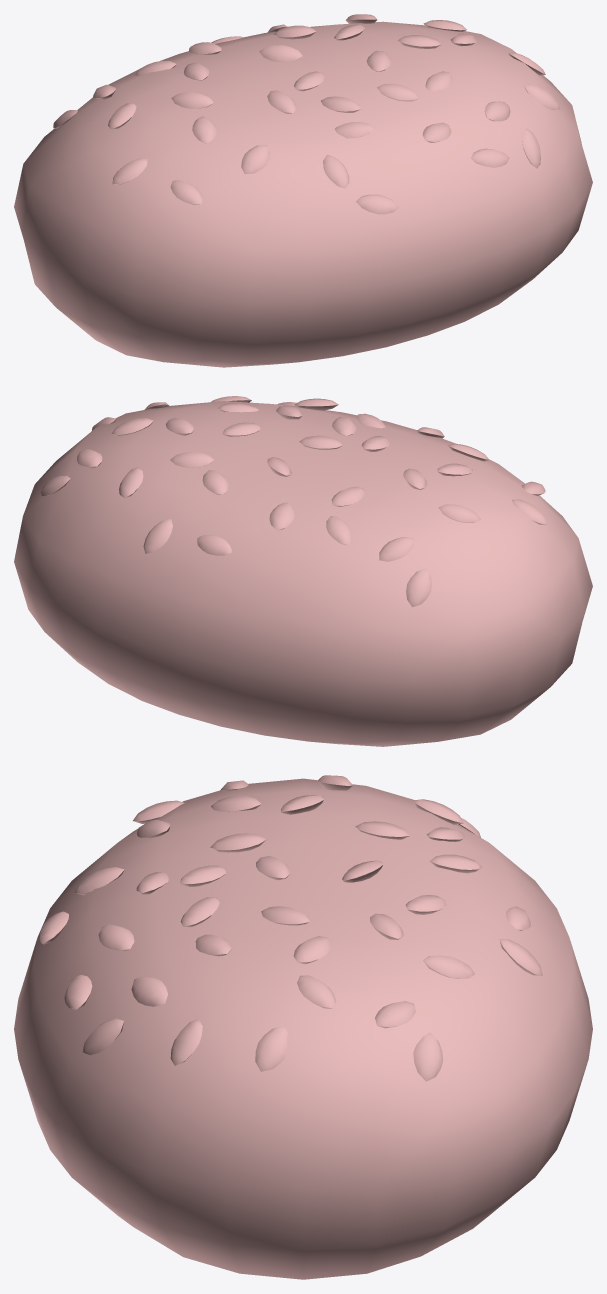
File: PROPS_GOODS_CEREALBREAD_MODEL.fbx
3 renders of one model, top to bottom at view 1: azimuth 30°, elevation 25°; view 2: azimuth 150°, elevation 25°; view 3: azimuth 270°, elevation 25°, orthographic. The views are drawn at different scales.
Parts seen in each view (by area): view 1: PROPS_GOODS_CEREALBREAD_MODEL; view 2: PROPS_GOODS_CEREALBREAD_MODEL; view 3: PROPS_GOODS_CEREALBREAD_MODEL.
Boxes of the visible parts, x1,y1,x2,y2 form: PROPS_GOODS_CEREALBREAD_MODEL: (14, 14, 592, 367); PROPS_GOODS_CEREALBREAD_MODEL: (14, 396, 592, 746); PROPS_GOODS_CEREALBREAD_MODEL: (14, 775, 592, 1279).
Size of the model in its own units: 12.63 by 5.91 by 9.62.
